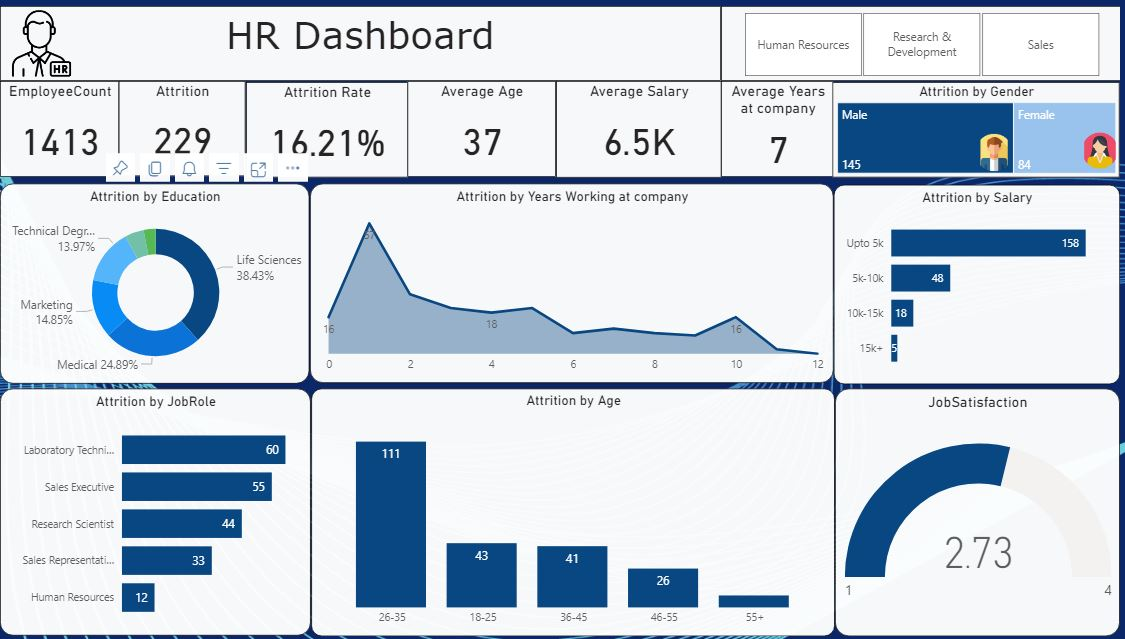

The dashboard page shown, as its layout file describes it:
{"tool":"powerbi","page":{"name":"Page 1","canvas":[1280,720],"ordinal":0},"visuals":[{"type":"card","title":"EmployeeCount","fields":{"Values":["CountNonNull(HR_Analytics.EmpID)"]},"box":[0,85.9,136.3,109.3],"z":0},{"type":"card","title":"Attrition","fields":{"Values":["Sum(HR_Analytics.AttritionCount)"]},"box":[136.3,85.6,144.7,108.5],"z":1000},{"type":"card","title":"Attrition Rate","fields":{"Values":["HR_Analytics.AttritionRate"]},"box":[281,86.8,184.5,108.5],"z":2000},{"type":"card","title":"Average Age","fields":{"Values":["Avg(HR_Analytics.Age)"]},"box":[465.3,85.9,169.4,109.3],"z":3000},{"type":"card","title":"Average Salary","fields":{"Values":["Avg(HR_Analytics.MonthlyIncome)"]},"box":[635.3,85,188.8,110],"z":4000},{"type":"card","title":"Average Years at company","fields":{"Values":["Avg(HR_Analytics.YearsAtCompany)"]},"box":[823.8,85.9,128.9,109.3],"z":5000},{"type":"donutChart","title":"Attrition by Education","fields":{"Category":["HR_Analytics.EducationField"],"Y":["Sum(HR_Analytics.AttritionCount)"]},"box":[0,202.6,353.4,229.1],"z":6000},{"type":"columnChart","title":"Attrition by Age","fields":{"Category":["HR_Analytics.AgeGroup"],"Y":["Sum(HR_Analytics.AttritionCount)"]},"box":[355.2,437.3,598.5,283.6],"z":7000},{"type":"barChart","title":"Attrition by Salary","fields":{"Category":["HR_Analytics.SalarySlab"],"Y":["Sum(HR_Analytics.AttritionCount)"]},"box":[952.8,203.8,326.8,227.9],"z":8000},{"type":"barChart","title":"Attrition by JobRole","fields":{"Category":["HR_Analytics.JobRole"],"Y":["Sum(HR_Analytics.AttritionCount)"]},"box":[0,437.3,355.2,282.1],"z":9000},{"type":"stackedAreaChart","title":"Attrition by Years Working at company","fields":{"Category":["HR_Analytics.YearsAtCompany"],"Y":["Sum(HR_Analytics.AttritionCount)"]},"box":[354.1,202.7,598.6,228.4],"z":10000},{"type":"treemap","title":"Attrition by Gender","fields":{"Group":["HR_Analytics.Gender"],"Values":["Sum(HR_Analytics.AttritionCount)"]},"box":[951.6,86.8,328,108.5],"z":11000},{"type":"slicer","fields":{"Values":["HR_Analytics.Department"]},"box":[823.8,0,456.7,85.9],"z":12000},{"type":"textbox","box":[0,0,823.7,85.6],"z":13000},{"type":"gauge","title":"JobSatisfaction","fields":{"Y":["Avg(HR_Analytics.JobSatisfaction)"],"MinValue":["Min(HR_Analytics.JobSatisfaction)"],"MaxValue":["Max(HR_Analytics.JobSatisfaction)"]},"box":[953.7,437.3,325.4,283.6],"z":14000},{"type":"image","box":[0,0,95.3,85.6],"z":15000},{"type":"image","box":[1115.6,140.9,41,52],"z":18000},{"type":"image","box":[1234.3,139.9,45.8,50.7],"z":19500}]}

Visuals, with their boxes on the page's 1280x720 design canvas (x1, y1, x2, y2). These are canvas units, not pixel positions in the 1125x639 screenshot, which may show the page scaled, cropped or inside an application window:
"EmployeeCount" card: (left=0, top=86, right=136, bottom=195)
"Attrition" card: (left=136, top=86, right=281, bottom=194)
"Attrition Rate" card: (left=281, top=87, right=466, bottom=195)
"Average Age" card: (left=465, top=86, right=635, bottom=195)
"Average Salary" card: (left=635, top=85, right=824, bottom=195)
"Average Years at company" card: (left=824, top=86, right=953, bottom=195)
"Attrition by Education" donutChart: (left=0, top=203, right=353, bottom=432)
"Attrition by Age" columnChart: (left=355, top=437, right=954, bottom=721)
"Attrition by Salary" barChart: (left=953, top=204, right=1280, bottom=432)
"Attrition by JobRole" barChart: (left=0, top=437, right=355, bottom=719)
"Attrition by Years Working at company" stackedAreaChart: (left=354, top=203, right=953, bottom=431)
"Attrition by Gender" treemap: (left=952, top=87, right=1280, bottom=195)
slicer - HR_Analytics.Department: (left=824, top=0, right=1280, bottom=86)
textbox: (left=0, top=0, right=824, bottom=86)
"JobSatisfaction" gauge: (left=954, top=437, right=1279, bottom=721)
image: (left=0, top=0, right=95, bottom=86)
image: (left=1116, top=141, right=1157, bottom=193)
image: (left=1234, top=140, right=1280, bottom=191)
